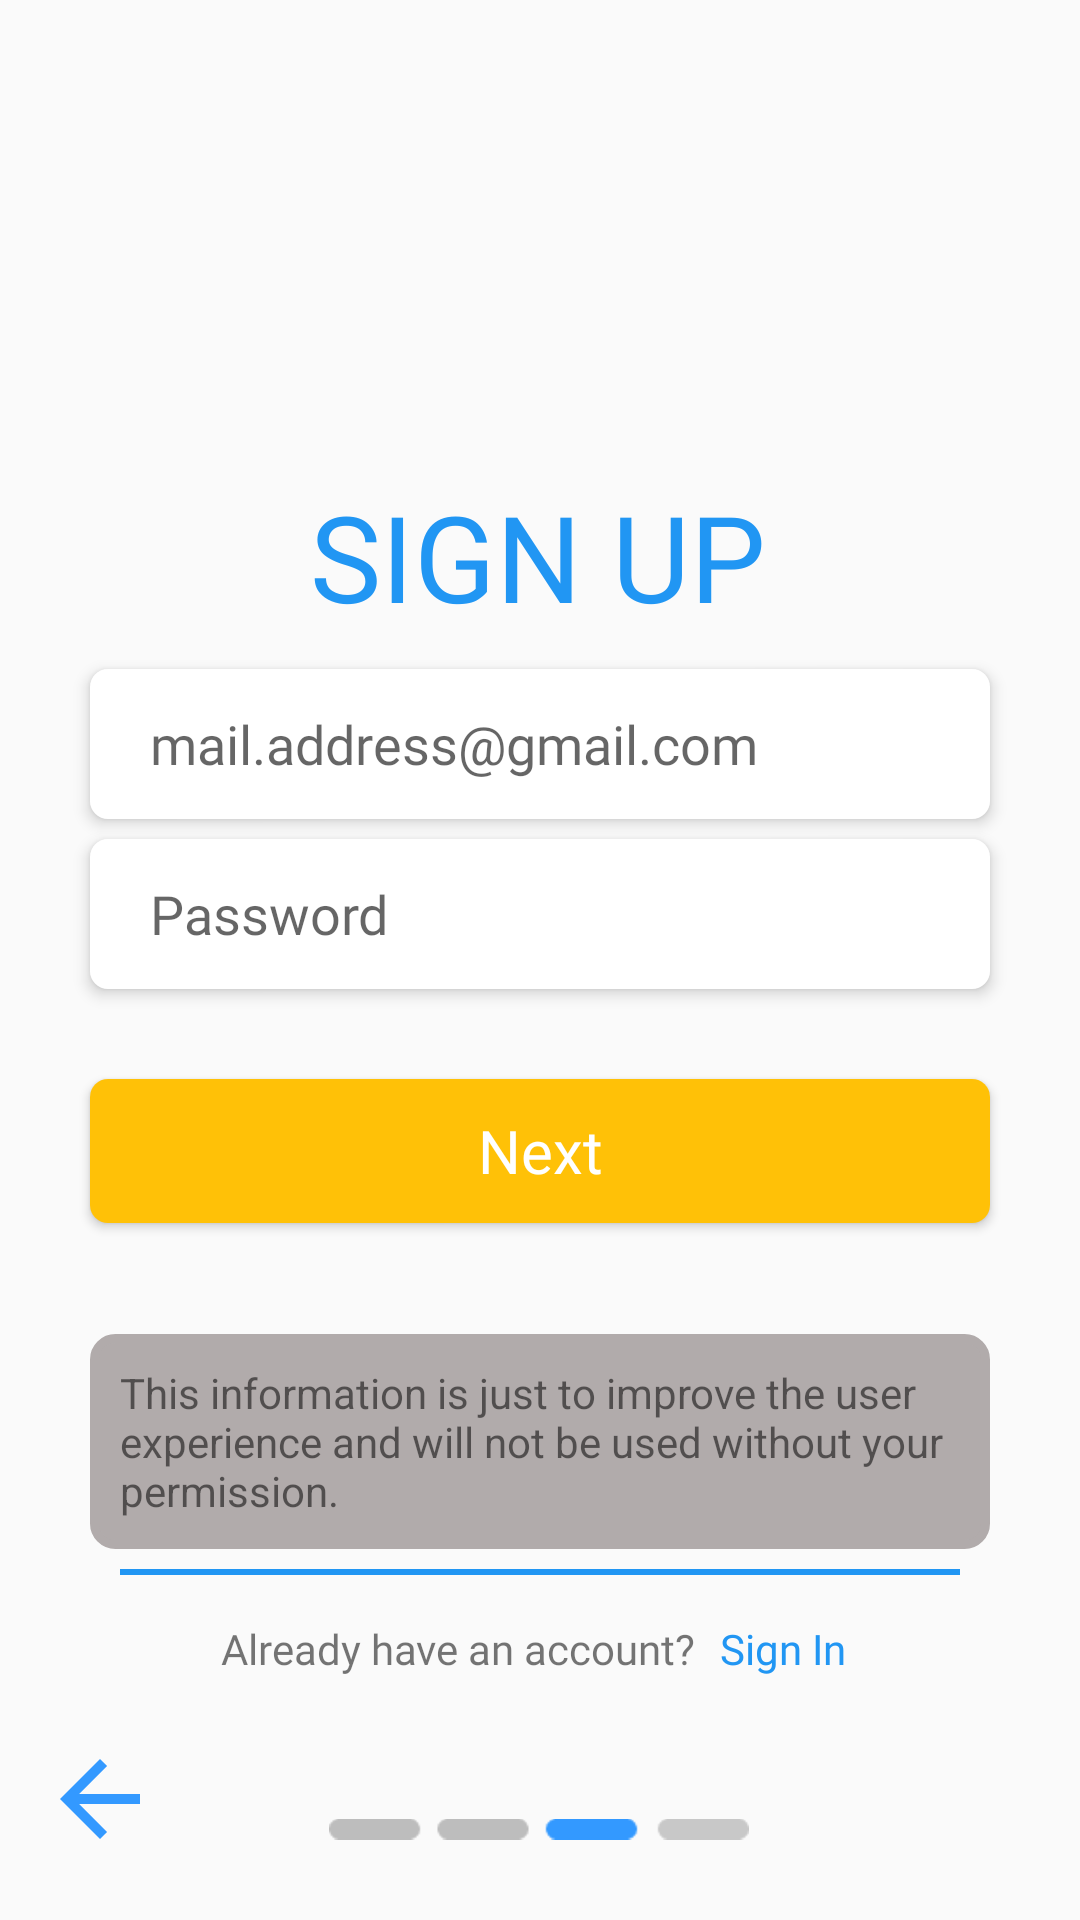

Icon click points for this 1080px x 1920px phone screenshot, format point (x, y):
back: point (100, 1799)
